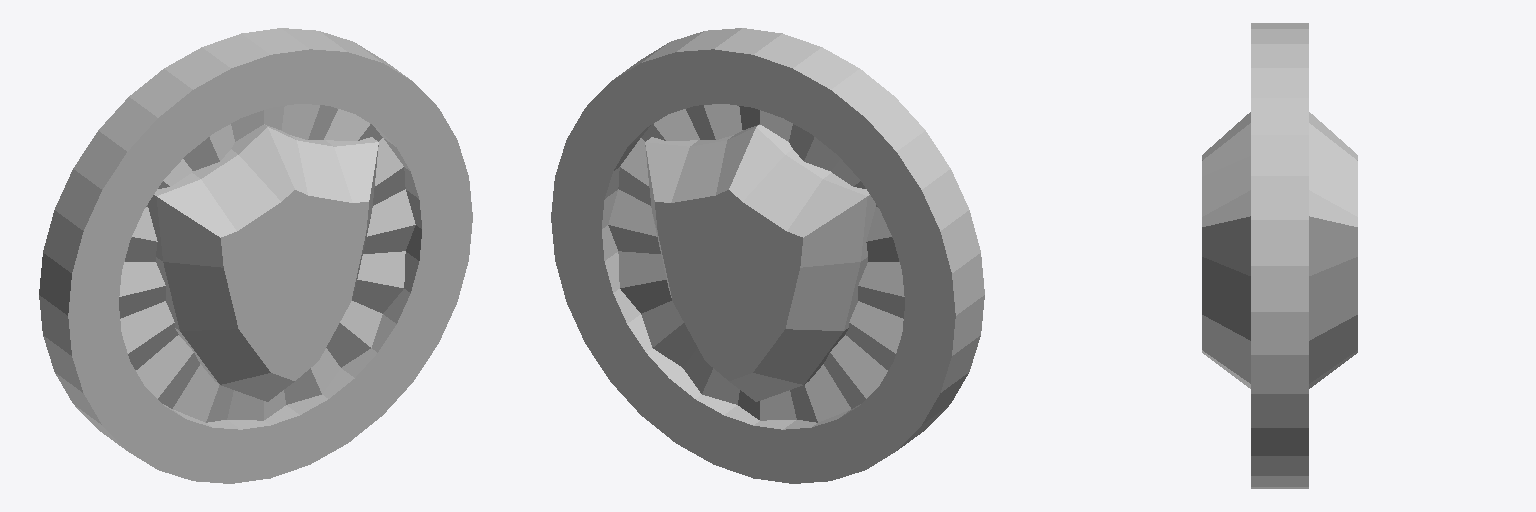
The model's file is coin_shield.obj.
3 views of the same model, side by side, from view 1: azimuth 30°, elevation 25°; view 2: azimuth 150°, elevation 25°; view 3: azimuth 270°, elevation 25° (orthographic).
Visible parts, largest first — view 1: Mesh2 Model, Mesh1 Group1 Model; view 2: Mesh2 Model, Mesh1 Group1 Model; view 3: Mesh2 Model, Mesh1 Group1 Model.
Part boxes in pixels (x1,y1,x2,y2): Mesh2 Model: (39,28,472,483); Mesh1 Group1 Model: (148,124,378,401); Mesh2 Model: (551,28,984,483); Mesh1 Group1 Model: (645,124,875,401); Mesh2 Model: (1251,23,1308,488); Mesh1 Group1 Model: (1202,112,1357,388).
Size of the model in its own units: 12 by 12 by 4.